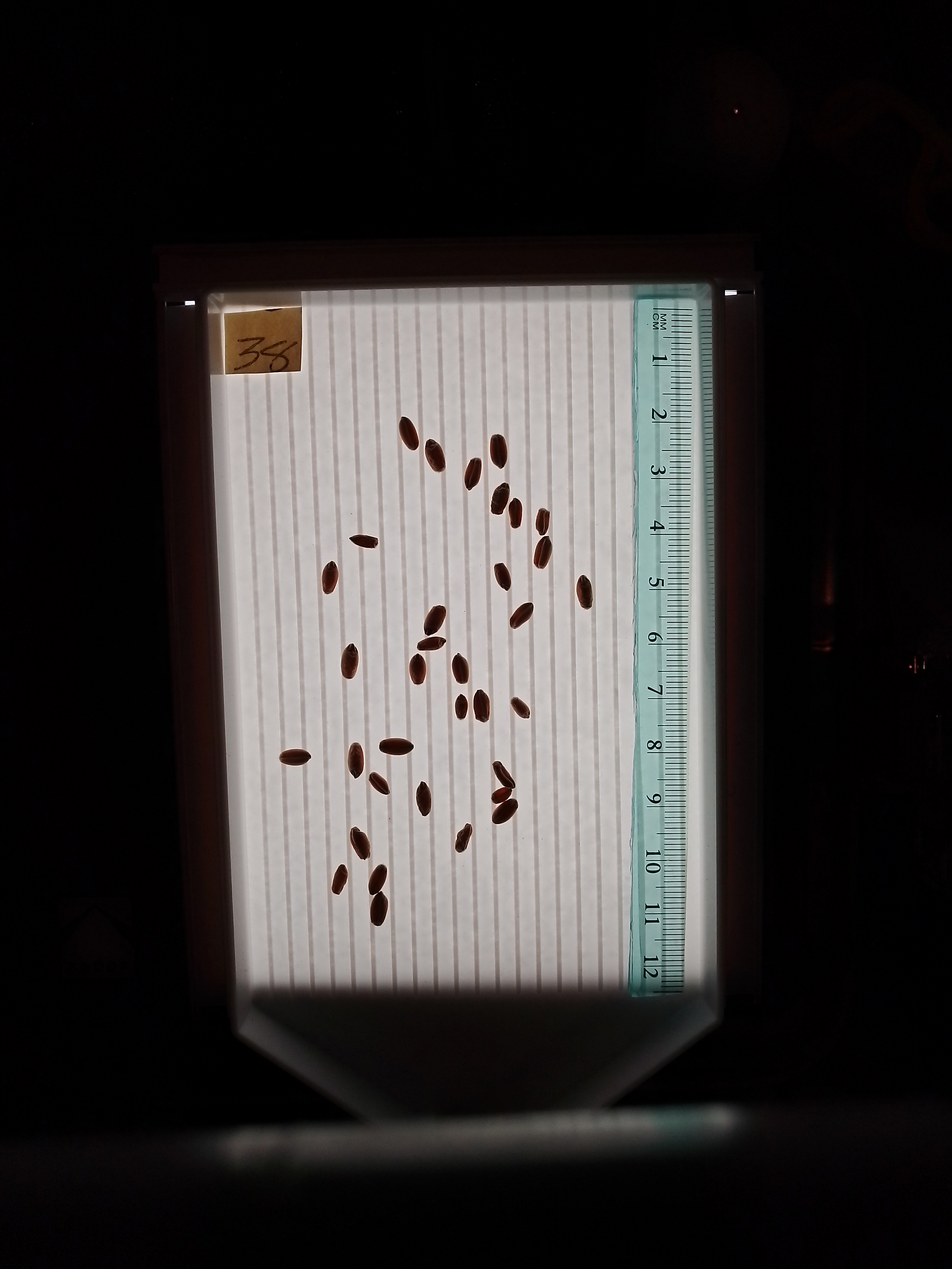seed mask: (424, 439, 446, 473), (424, 605, 446, 636), (350, 828, 371, 860), (399, 417, 419, 450), (380, 737, 413, 756), (492, 800, 518, 824), (370, 892, 388, 926), (510, 603, 534, 628), (415, 782, 432, 817), (534, 536, 552, 569), (576, 576, 594, 609), (321, 561, 339, 594), (493, 762, 514, 790), (490, 435, 507, 468), (341, 645, 358, 678), (491, 484, 509, 515), (473, 690, 490, 722), (348, 743, 364, 777), (464, 458, 481, 490), (369, 865, 387, 895), (280, 749, 311, 766), (455, 824, 473, 852), (452, 655, 469, 684), (409, 655, 426, 684), (332, 865, 348, 894), (508, 498, 523, 528), (417, 636, 445, 652), (494, 564, 511, 590), (369, 773, 389, 795), (350, 534, 378, 549), (511, 697, 530, 719), (536, 509, 550, 536), (492, 788, 511, 804), (455, 696, 467, 718)
